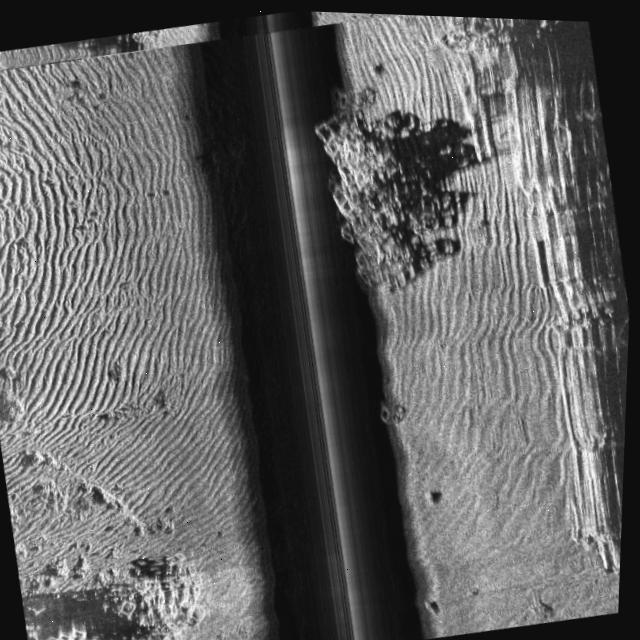artificial reef: (288, 63, 465, 315), (18, 531, 220, 640), (356, 393, 414, 442)
